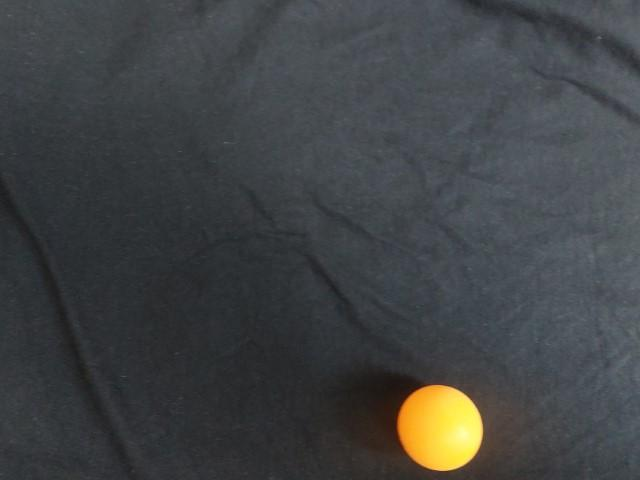oball: (391, 378, 488, 476)
